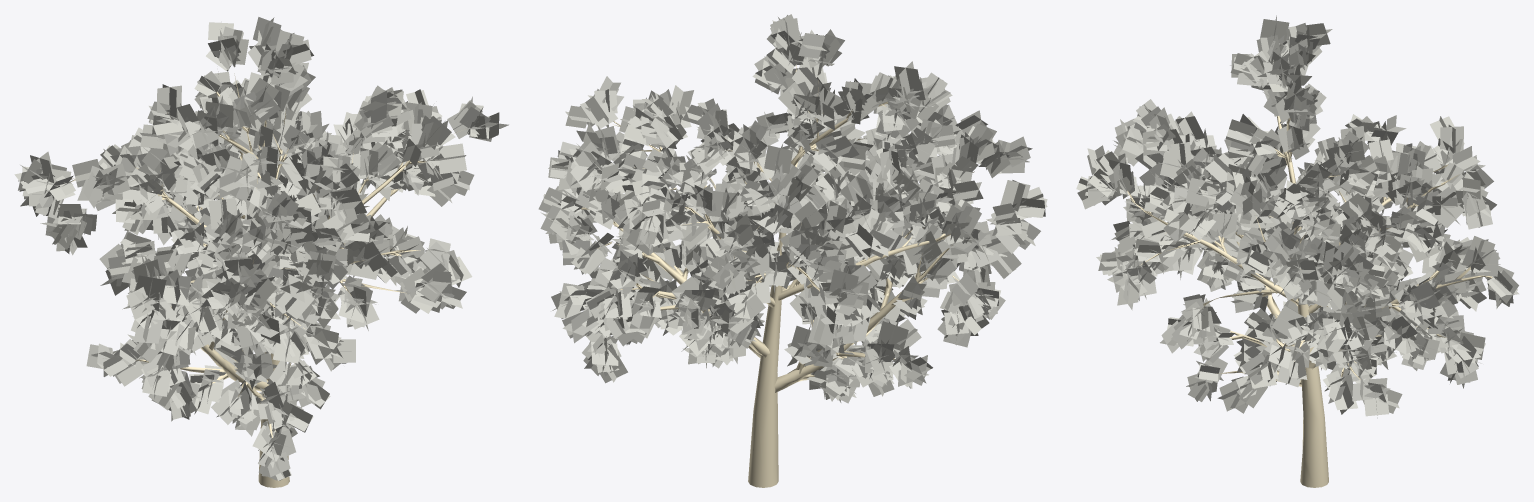
The model's file is ez-oak-low.glb.
3 renders of one model, left to right at view 1: azimuth 30°, elevation 25°; view 2: azimuth 150°, elevation 25°; view 3: azimuth 270°, elevation 25°, orthographic. The views are drawn at different scales.
Parts seen in each view (by area): view 1: Tree; view 2: Tree; view 3: Tree.
Boxes of the visible parts, x1,y1,x2,y2 form: Tree: [14, 17, 508, 487]; Tree: [538, 14, 1047, 487]; Tree: [1076, 15, 1519, 487].
Size of the model in its own units: 94.25 by 100 by 92.15.
